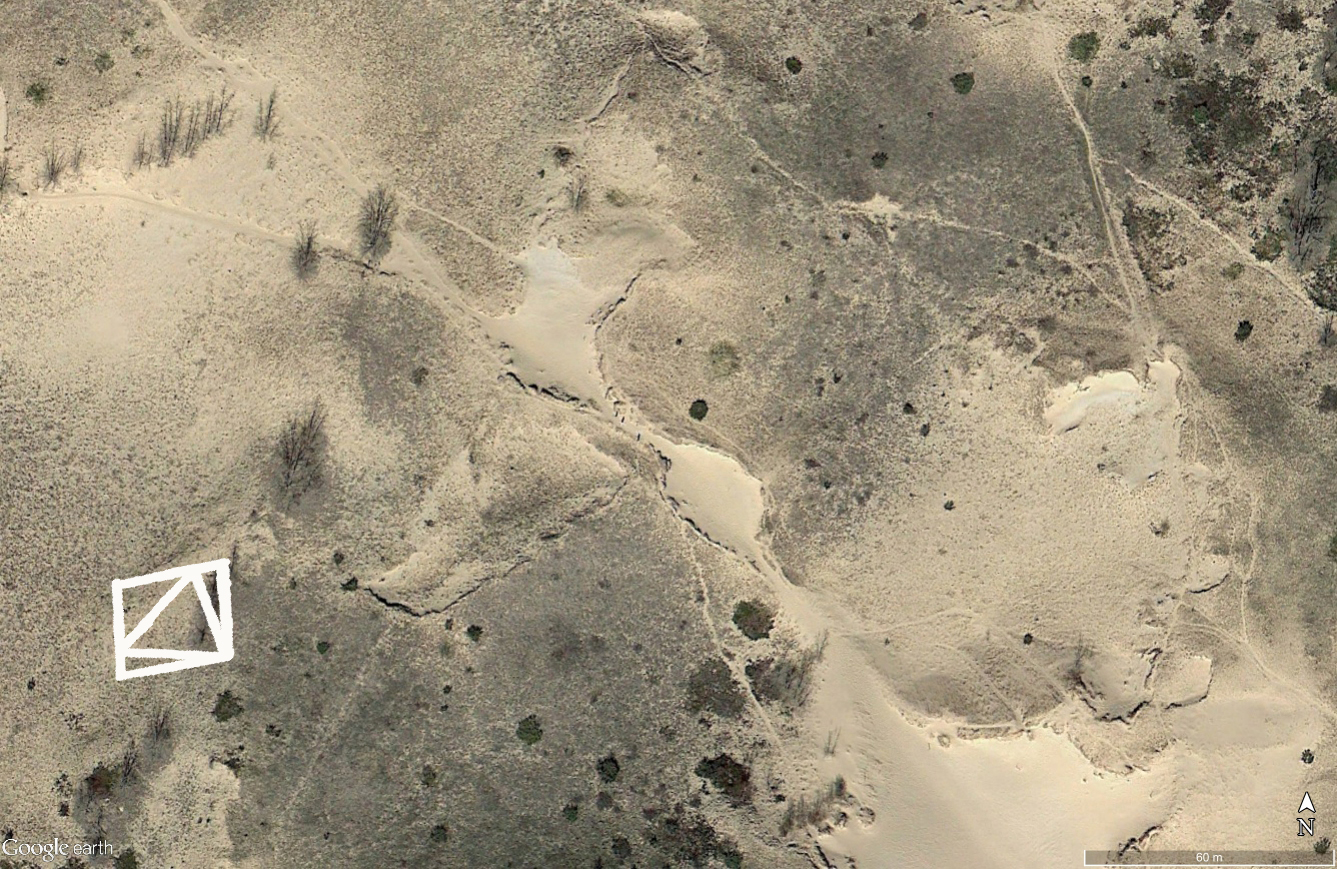marker: (104, 549, 244, 685)
